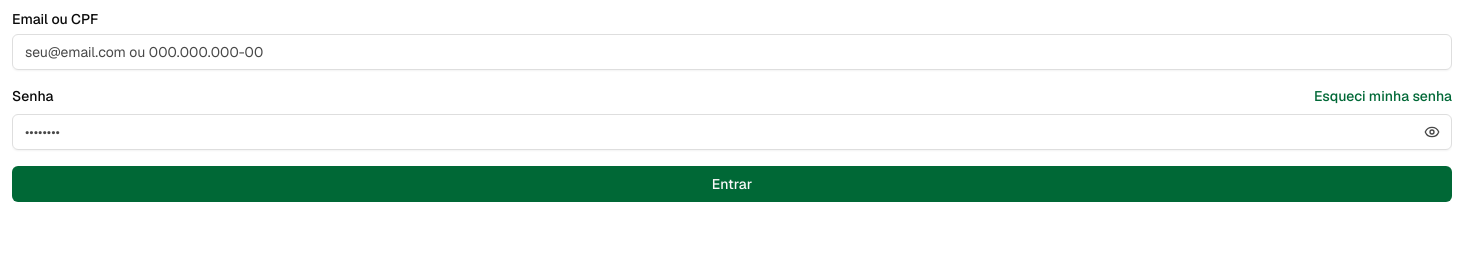
Página de Login › deve exibir mensagem de erro se o login falhar
This screenshot has width=1464, height=265.
In the field labelled "Email ou CPF": (732, 52) [12, 34, 1452, 70], type "errado@email.com"
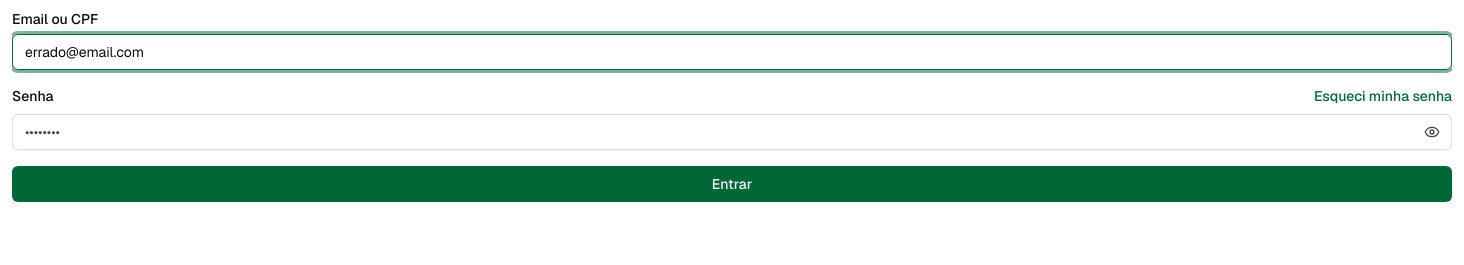
In the password field with placeholder "••••••••": (732, 132) [12, 114, 1452, 150], type "senhaerrada123"
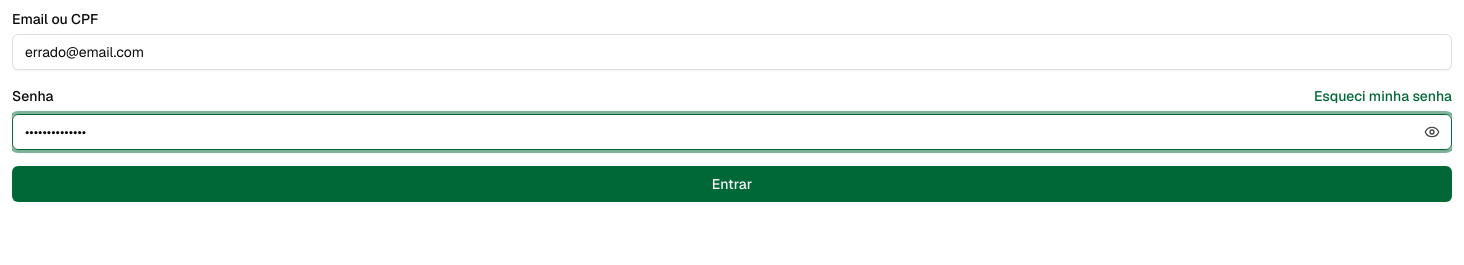
Click the button "Entrar": click(732, 184) [12, 166, 1452, 202]
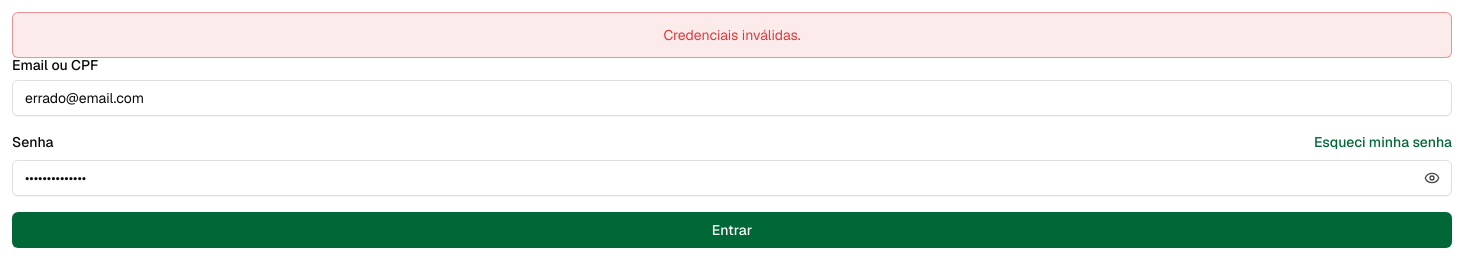
Check: the text "Credenciais inválidas." is shown, box [12, 12, 1452, 58]
